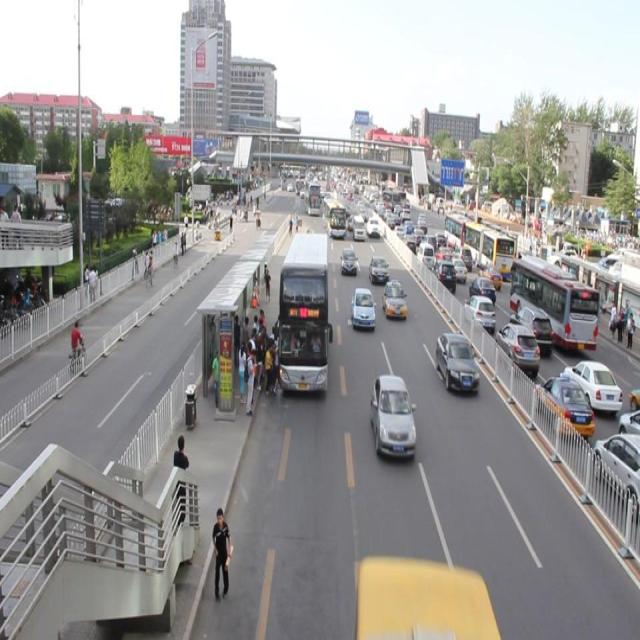car: (371, 372, 415, 458), (436, 332, 477, 393), (352, 286, 374, 330), (382, 278, 406, 318), (368, 255, 386, 283), (340, 245, 355, 278), (365, 216, 379, 238), (346, 212, 354, 231)
truck: (352, 215, 365, 242)
van: (280, 232, 328, 395), (322, 196, 344, 235)
